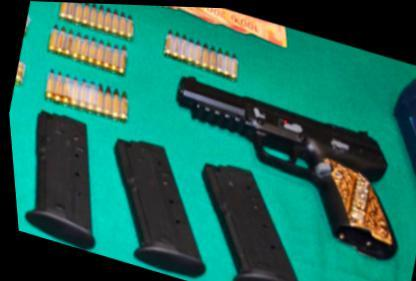pistol: (142, 58, 415, 262)
